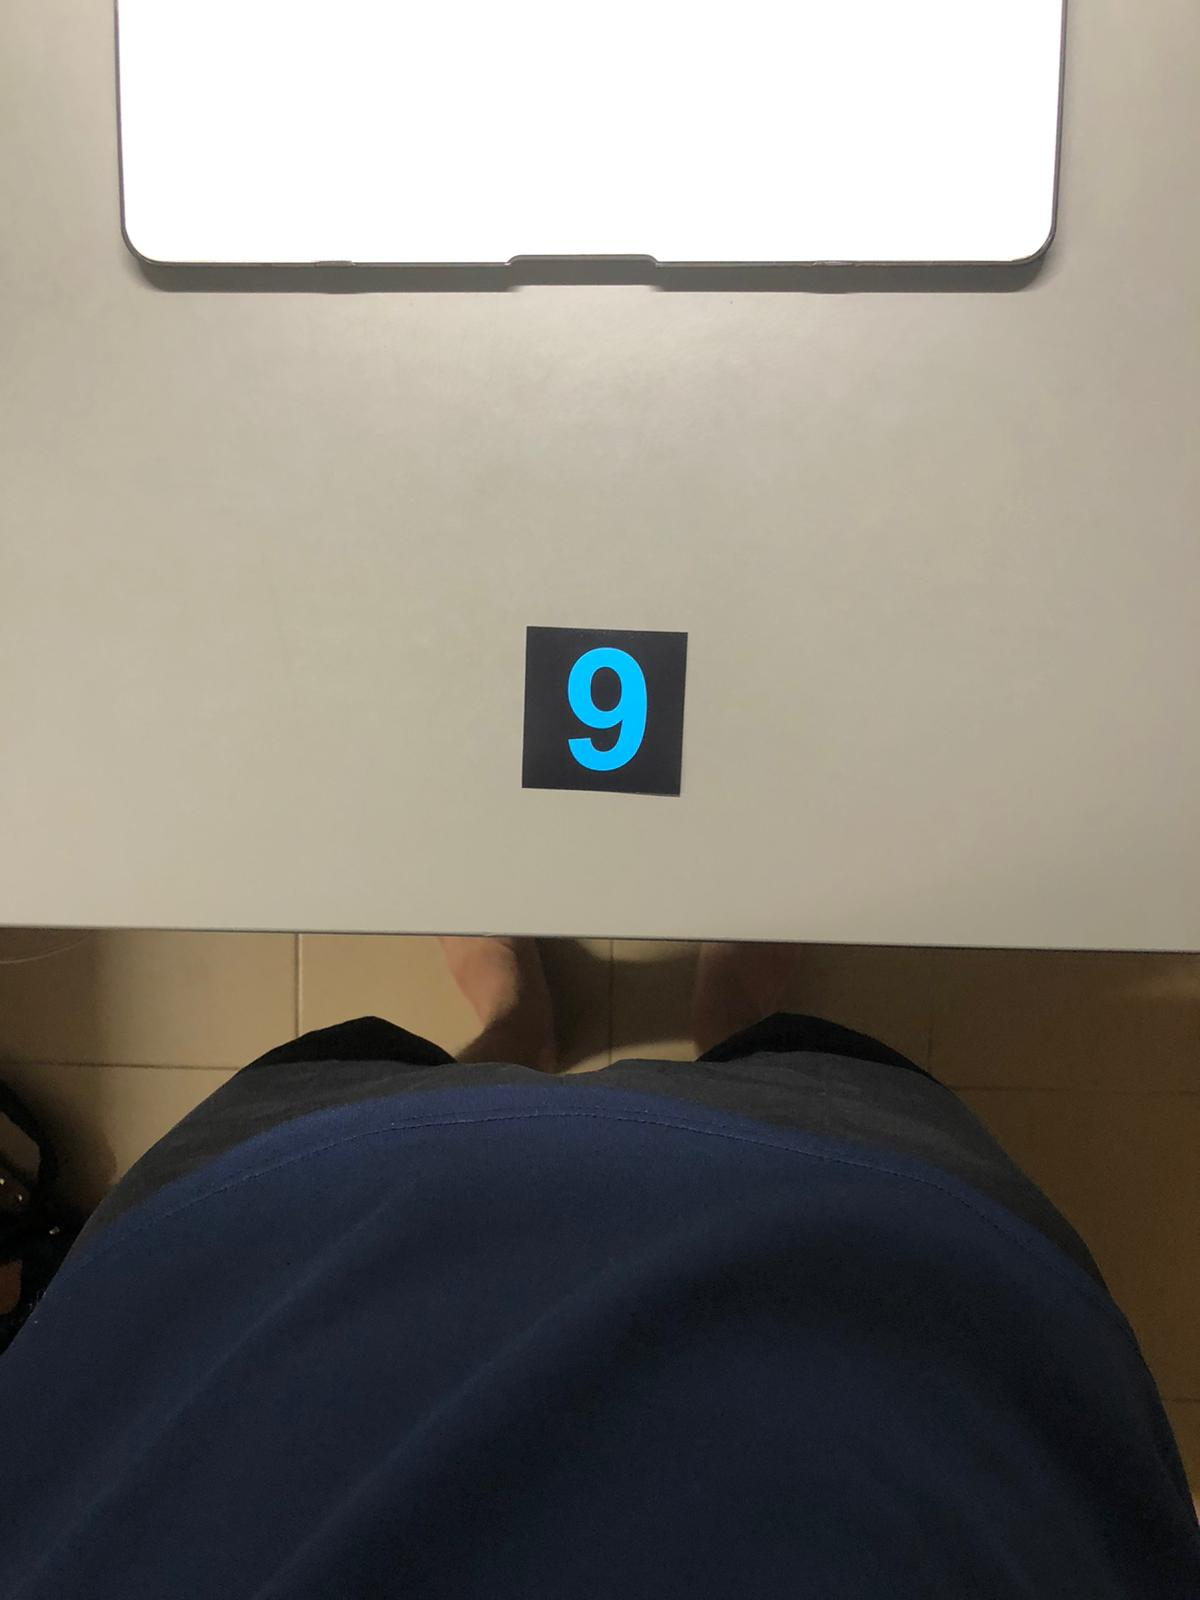Number 9: (518, 629, 679, 795)
